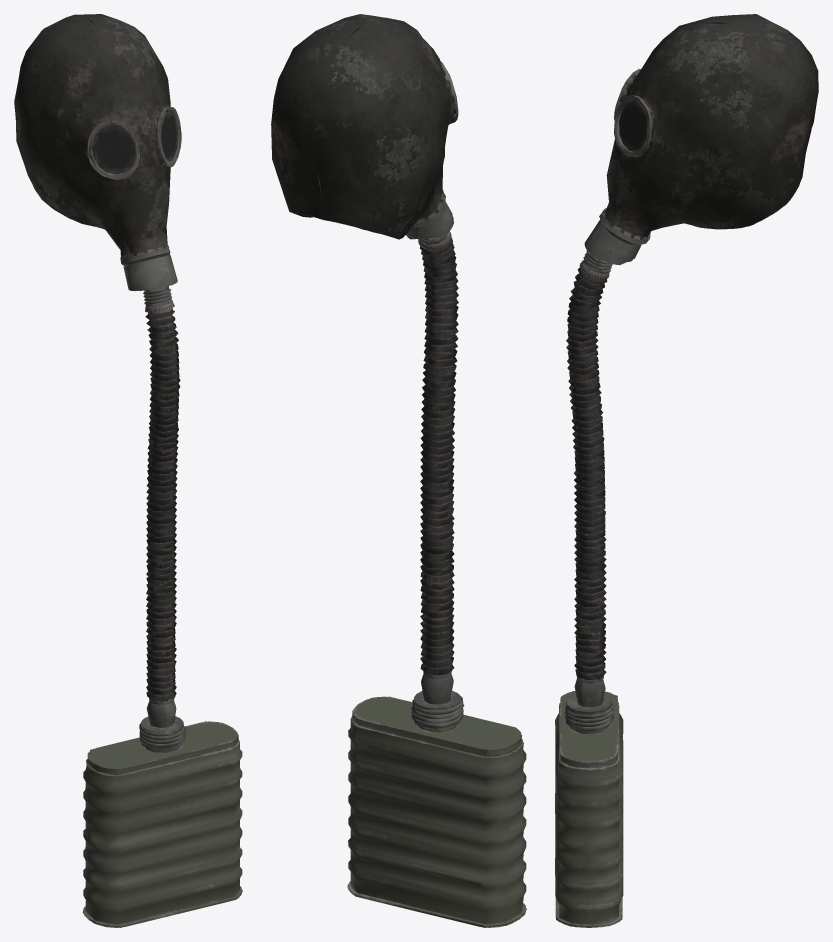
File: ph_gas_mask.gltf
3 renders of one model, left to right at view 1: azimuth 30°, elevation 25°; view 2: azimuth 150°, elevation 25°; view 3: azimuth 270°, elevation 25°, orthographic. The views are drawn at different scales.
Parts seen in each view (by area): view 1: Body; view 2: Body; view 3: Body.
Part boxes in pixels (x1,y1,x2,y2): Body: [14, 14, 242, 927]; Body: [271, 14, 526, 927]; Body: [555, 14, 818, 927].
Size of the model in its own units: 0.2118 by 1.13 by 0.3096.
Materials: 1 (1 with a texture image).
